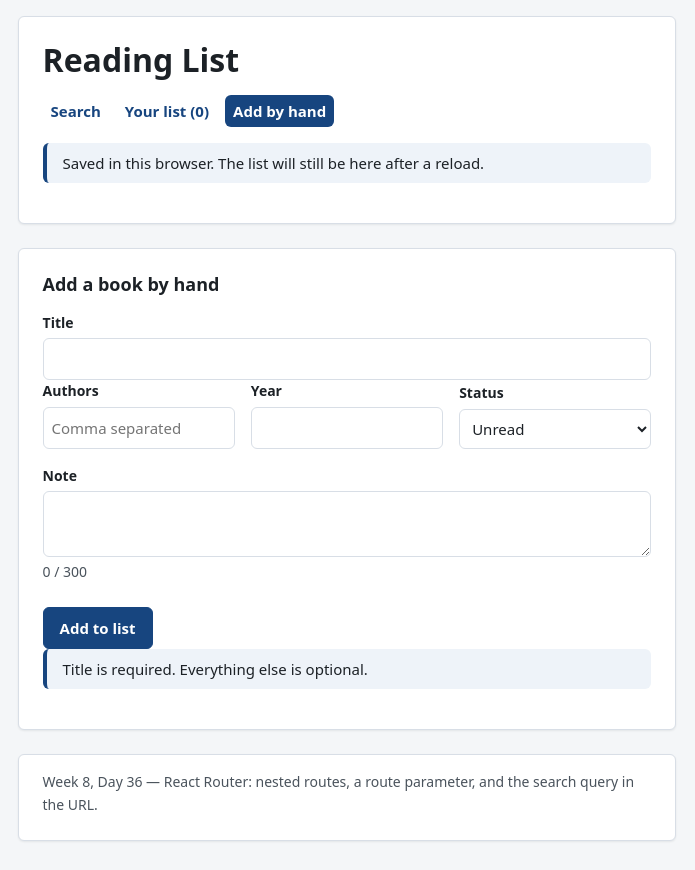
Test: keyboard operation › can reach and operate the status select with the keyboard
In the field labelled "Title": (347, 359) [42,338,651,380], type "Keyboard"
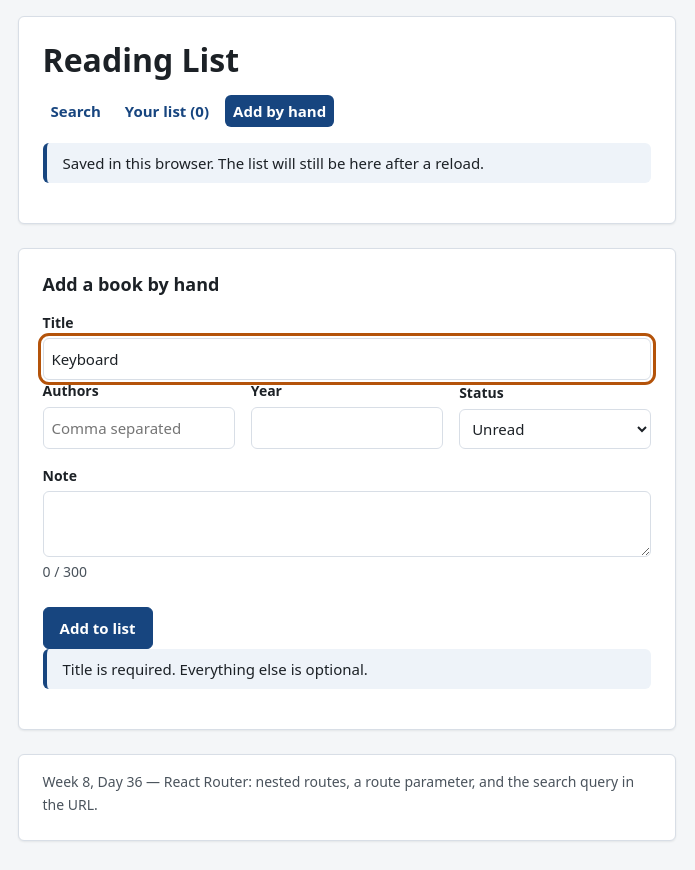
Select "Finished" in the dropdown labelled "Status": (555, 429) [459,409,652,449]
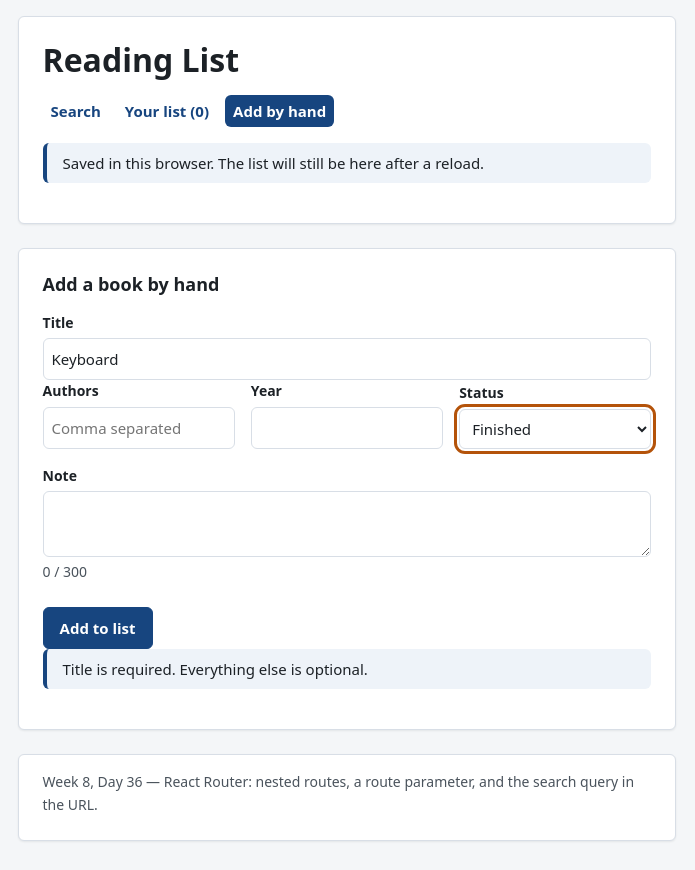
Click the button "Add to list": (98, 628) [42,608,153,650]
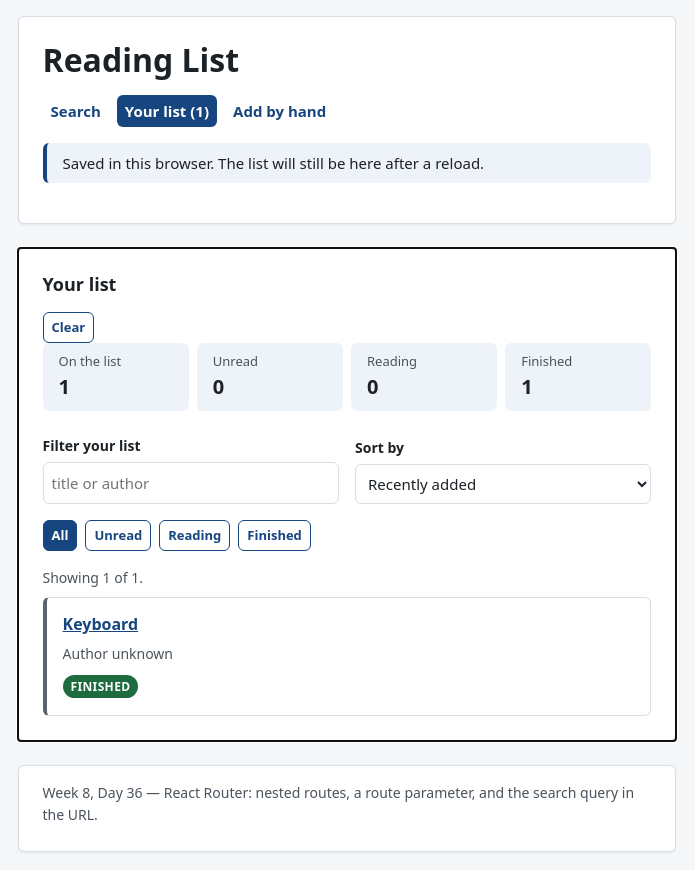
Result: the list item "Finished 1" is shown at [505,343,651,412]
